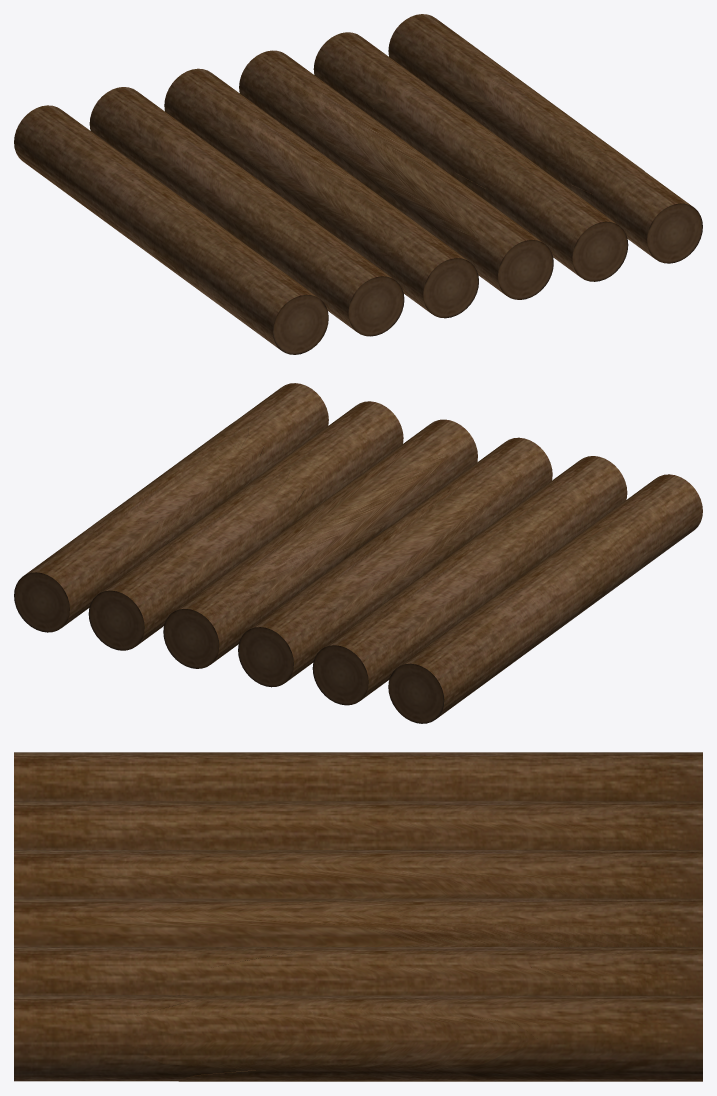
Rendered from RaftPieces.fbx.
The picture shows the model from 3 angles, top to bottom: view 1: azimuth 30°, elevation 25°; view 2: azimuth 150°, elevation 25°; view 3: azimuth 270°, elevation 25°; orthographic projection. The views are drawn at different scales.
Visible parts, largest first — view 1: LogIntact, LogBroken1-1, LogBroken2-1, LogBroken3-2, LogBroken4-1, LogBroken3-1, LogBroken2-2, LogBroken5-2, LogBroken5-1, LogBroken4-2, LogBroken5-3, LogBroken1-2 (+1 smaller); view 2: LogIntact, LogBroken3-2, LogBroken1-1, LogBroken2-2, LogBroken2-1, LogBroken5-3, LogBroken5-2, LogBroken4-1, LogBroken1-2, LogBroken4-3, LogBroken4-2, LogBroken3-1 (+1 smaller); view 3: LogIntact, LogBroken5-2, LogBroken1-1, LogBroken3-2, LogBroken2-1, LogBroken5-3, LogBroken2-2, LogBroken4-2, LogBroken3-1, LogBroken5-1, LogBroken4-1, LogBroken1-2 (+1 smaller).
Boxes of the visible parts, x1,y1,x2,y2 form: LogIntact: [14, 105, 328, 354]; LogBroken1-1: [148, 129, 404, 336]; LogBroken2-1: [286, 154, 478, 318]; LogBroken3-2: [239, 50, 463, 215]; LogBroken4-1: [455, 145, 628, 281]; LogBroken3-1: [391, 152, 553, 299]; LogBroken2-2: [164, 68, 342, 205]; LogBroken5-2: [467, 69, 644, 197]; LogBroken5-1: [571, 154, 702, 263]; LogBroken4-2: [372, 74, 541, 188]; LogBroken5-3: [388, 14, 519, 117]; LogBroken1-2: [89, 87, 196, 175]; LogIntact: [388, 474, 702, 723]; LogBroken3-2: [163, 473, 413, 668]; LogBroken1-1: [381, 456, 627, 643]; LogBroken2-2: [238, 526, 434, 687]; LogBroken2-1: [363, 437, 552, 574]; LogBroken5-3: [14, 506, 160, 632]; LogBroken5-2: [96, 419, 272, 553]; LogBroken4-1: [270, 401, 403, 524]; LogBroken1-2: [312, 597, 433, 705]; LogBroken4-3: [88, 542, 208, 650]; LogBroken4-2: [152, 457, 315, 588]; LogBroken3-1: [314, 419, 477, 528]; LogIntact: [14, 752, 702, 801]; LogBroken5-2: [132, 995, 538, 1081]; LogBroken1-1: [14, 801, 578, 849]; LogBroken3-2: [207, 898, 702, 946]; LogBroken2-1: [14, 850, 438, 898]; LogBroken5-3: [449, 995, 702, 1081]; LogBroken2-2: [333, 850, 702, 898]; LogBroken4-2: [211, 947, 577, 995]; LogBroken3-1: [14, 898, 418, 946]; LogBroken5-1: [14, 995, 252, 1081]; LogBroken4-1: [14, 947, 302, 995]; LogBroken1-2: [527, 801, 702, 849].
Bounding box in the file's own units: 231 × 30 × 240.
